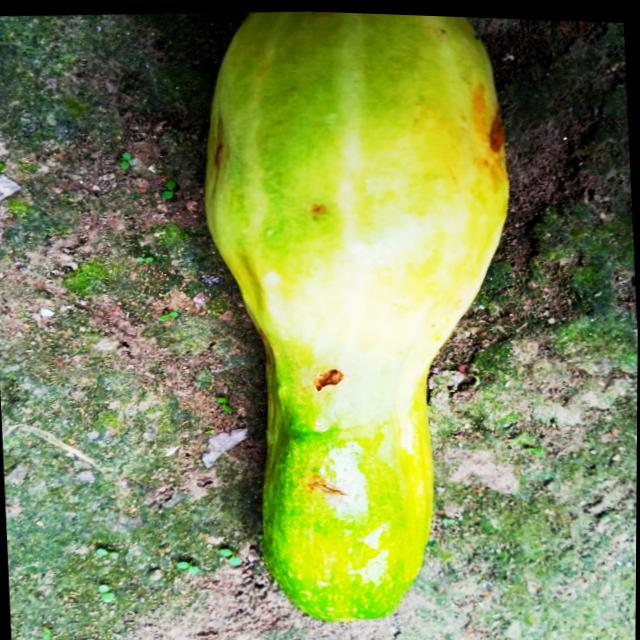Belly-Rot: (297, 461, 354, 503), (478, 97, 513, 159), (309, 356, 349, 402), (305, 190, 335, 231)
